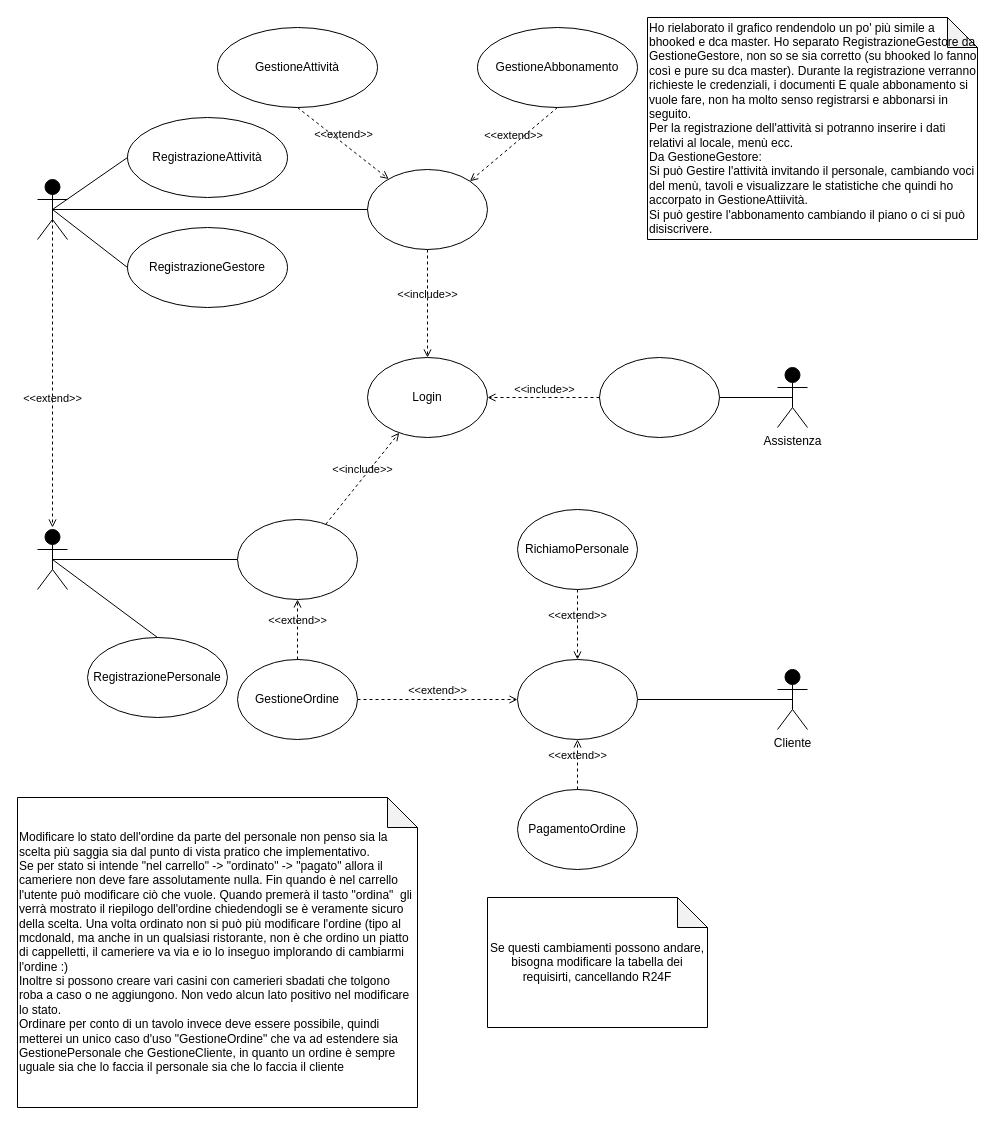
Image size: 995x1125. Some labels were removed from this diagram. The shapes that lost their labels are listed below. From the top down, each one's centre as x and y in pixels, then its label:
(x=52, y=209): Gestore
(x=427, y=209): GestioneGestore
(x=659, y=397): GestioneAssistenza
(x=52, y=559): Personale
(x=297, y=559): GestionePersonale
(x=577, y=699): GestioneCliente
